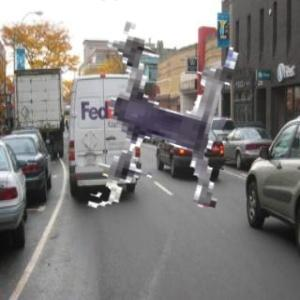drone: (38, 6, 270, 238)
